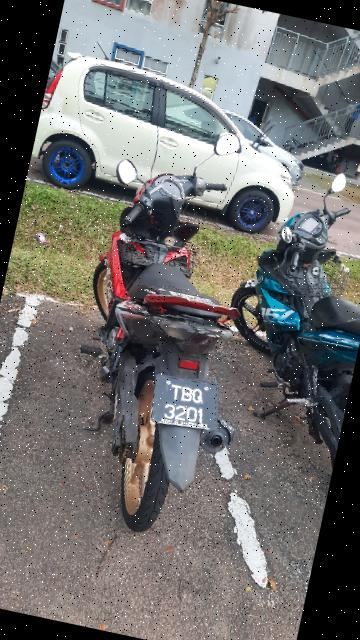License_Plate: (146, 365, 228, 437)
car: (26, 35, 318, 245)
motorcycle: (44, 100, 305, 550), (201, 139, 360, 483)
